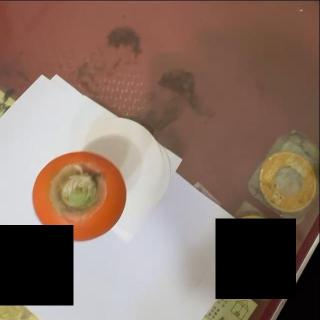carrot: (31, 149, 127, 242)
